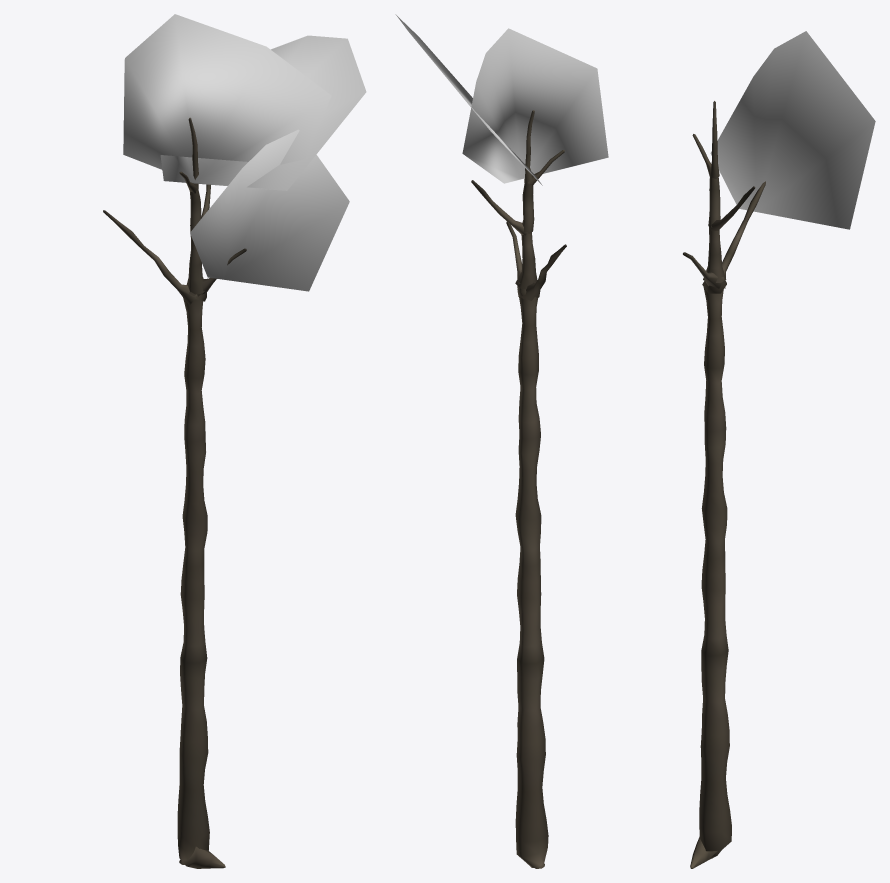
Rendered from slender_1.glb.
The picture shows the model from 3 angles, left to right: view 1: azimuth 30°, elevation 25°; view 2: azimuth 150°, elevation 25°; view 3: azimuth 270°, elevation 25°; orthographic projection.
Parts seen in each view (by area): view 1: slender_1; view 2: slender_1; view 3: slender_1.
Part boxes in pixels (x1,y1,x2,y2): slender_1: (103,14,366,868); slender_1: (395,14,608,868); slender_1: (683,31,875,868).
Bounding box in the file's own units: 2.83 × 9.3 × 2.37.
